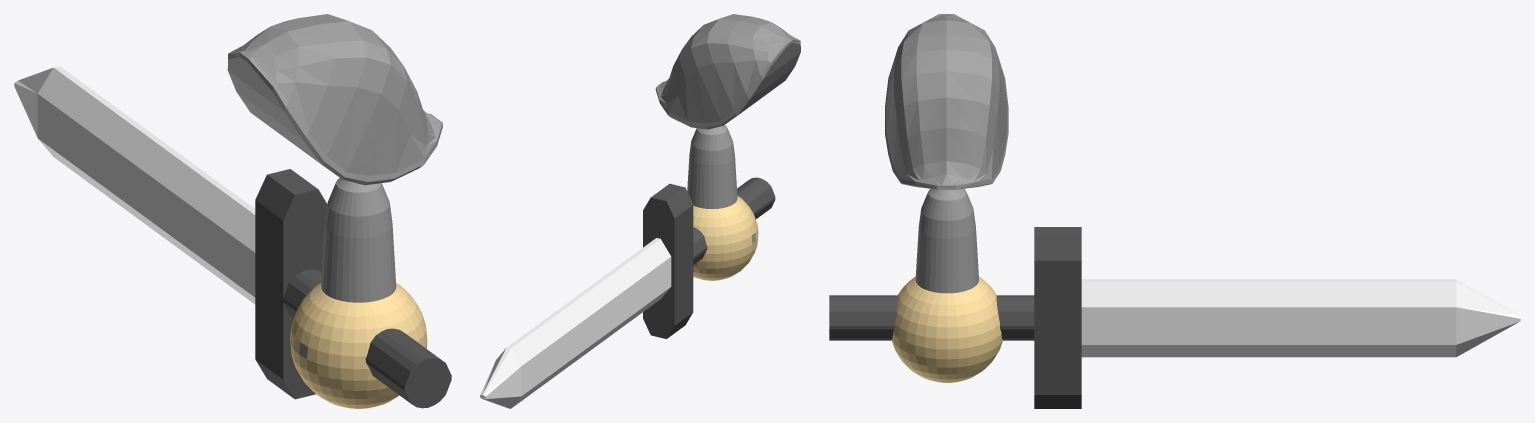
File: handRight.obj
3 views of the same model, side by side, from view 1: azimuth 30°, elevation 25°; view 2: azimuth 150°, elevation 25°; view 3: azimuth 270°, elevation 25° (orthographic). The views are drawn at different scales.
Parts seen in each view (by area): view 1: 腕_右_円柱.001; view 2: 腕_右_円柱.001; view 3: 腕_右_円柱.001.
Part boxes in pixels (bbox=[...]): 腕_右_円柱.001: bbox=[14, 14, 451, 408]; 腕_右_円柱.001: bbox=[480, 14, 800, 408]; 腕_右_円柱.001: bbox=[829, 14, 1520, 408].
Bounding box in the file's own units: 0.9889 × 2.06 × 3.63.
1 material, 1 textured.
